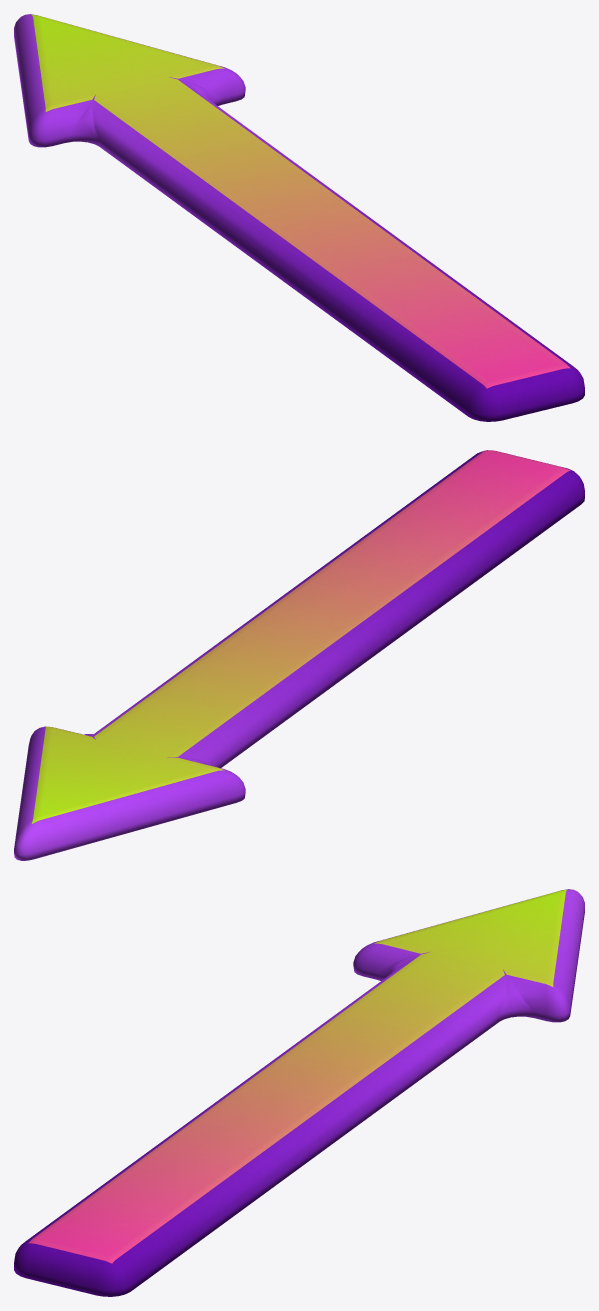
File: Arrow.fbx
3 renders of one model, top to bottom at view 1: azimuth 30°, elevation 25°; view 2: azimuth 150°, elevation 25°; view 3: azimuth 330°, elevation 25°, orthographic.
Visible parts, largest first — view 1: Plane; view 2: Plane; view 3: Plane.
Boxes of the visible parts, bbox=[...] form: Plane: bbox=[14, 14, 584, 421]; Plane: bbox=[14, 450, 584, 860]; Plane: bbox=[14, 889, 584, 1296].
Size of the model in its own units: 187 by 791 by 24.8.
2 materials, 2 textured.
